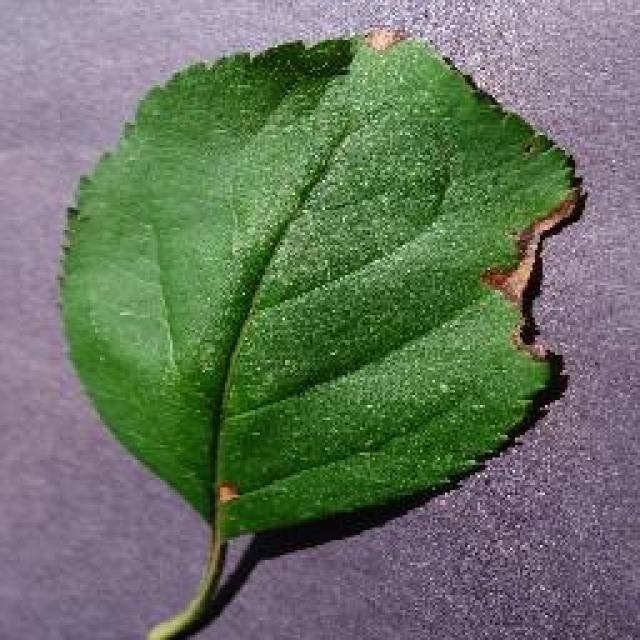apple healthy: (52, 25, 588, 637)
